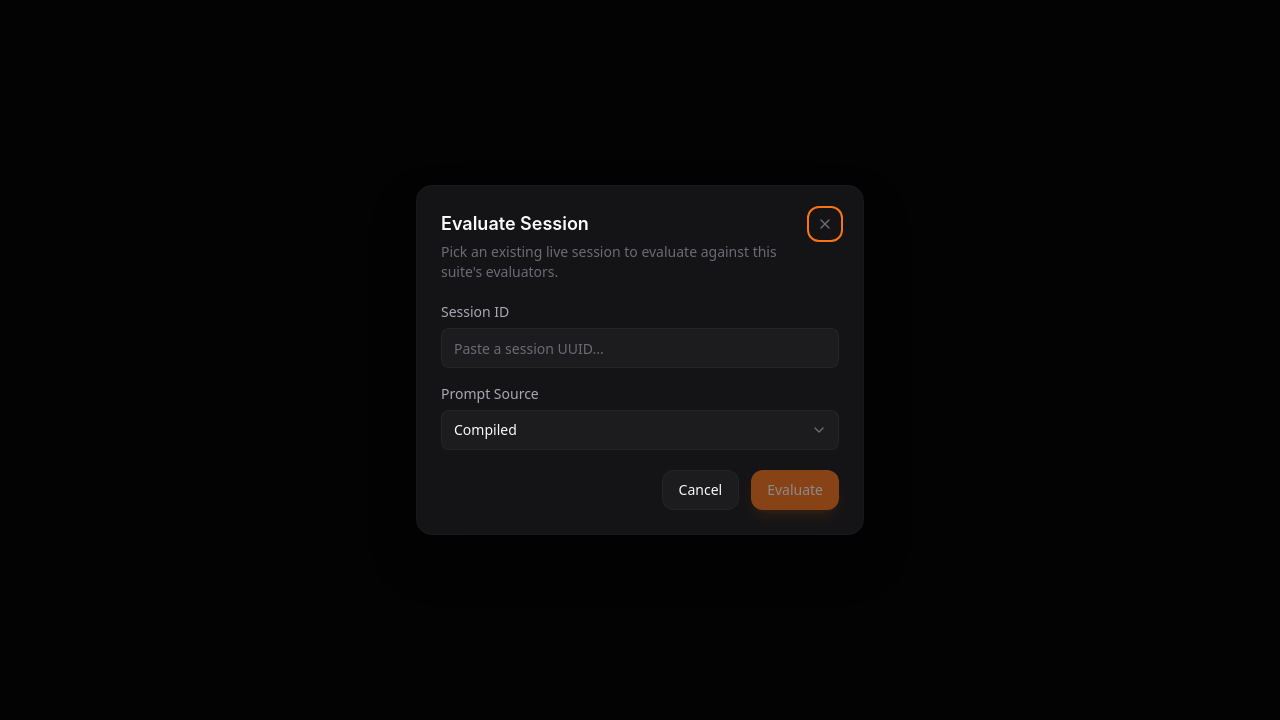
Test: EvaluateSessionDialog › shows validation warning for invalid UUID
This screenshot has width=1280, height=720.
Type "not-a-uuid" into the field labelled "Session ID" at (640, 348), box [441,328,839,368]
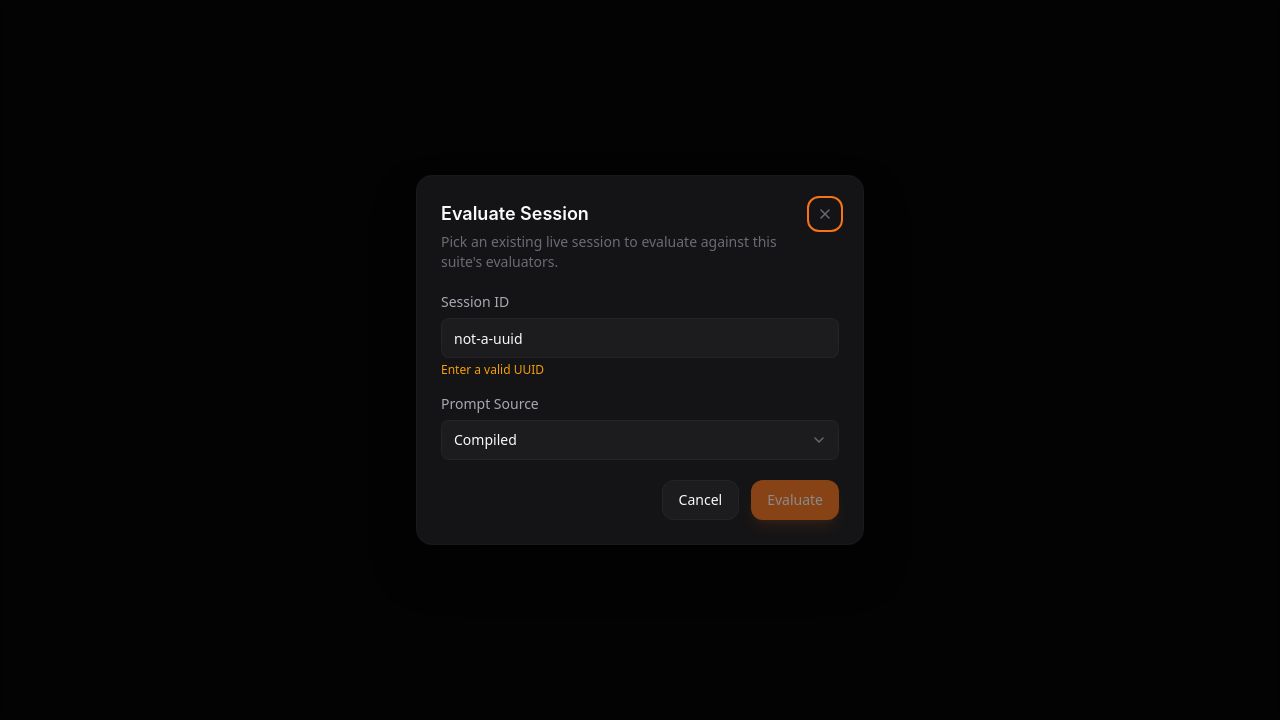
Check: the text "Enter a valid UUID" is shown, box [441,361,544,378]
